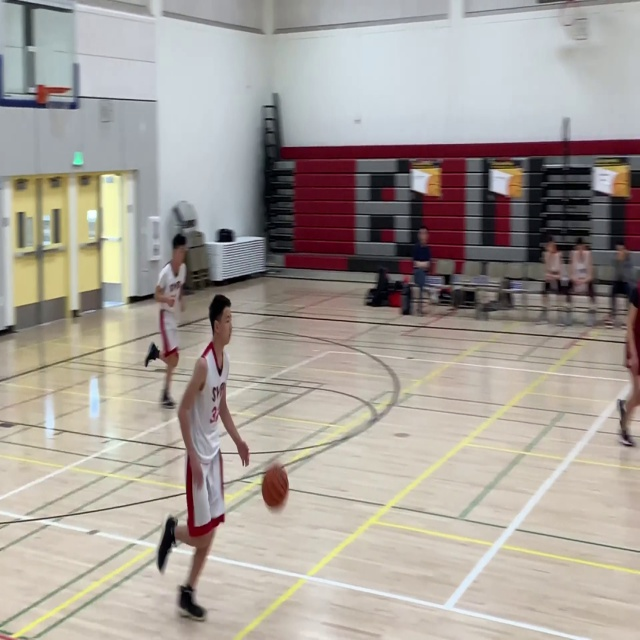Basketball: (261, 464, 289, 508)
